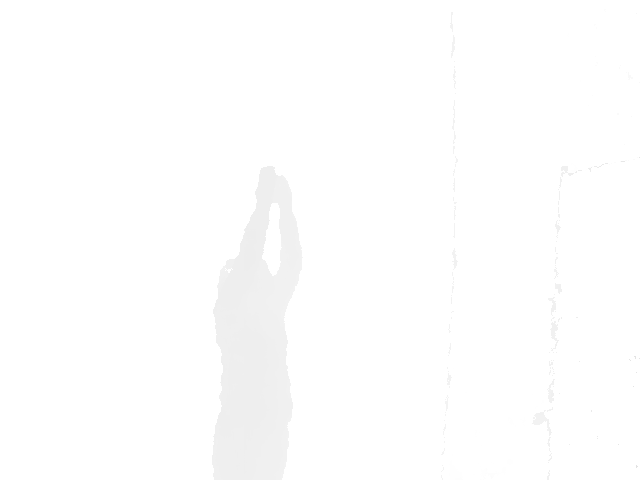hand: (255, 165, 274, 209), (273, 174, 295, 208)
head: (216, 255, 277, 288)
person: (210, 165, 304, 480)
